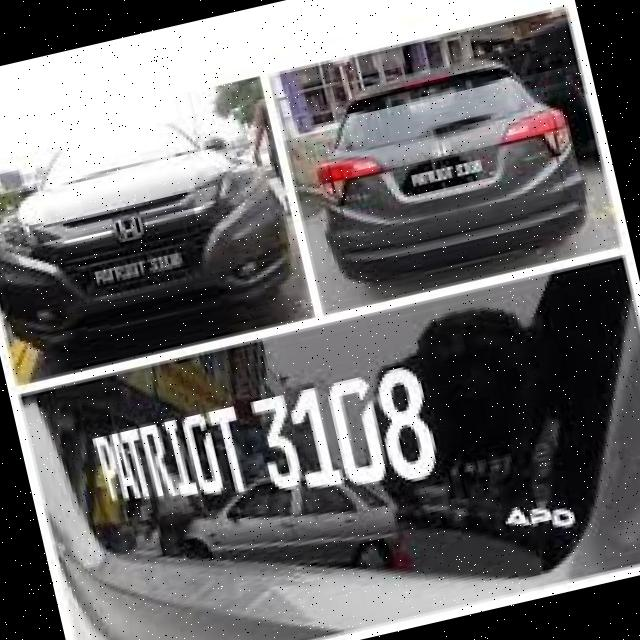License_Plate: (39, 249, 640, 640), (398, 148, 497, 199), (89, 248, 194, 293)
car: (271, 9, 611, 304), (1, 92, 309, 382)
